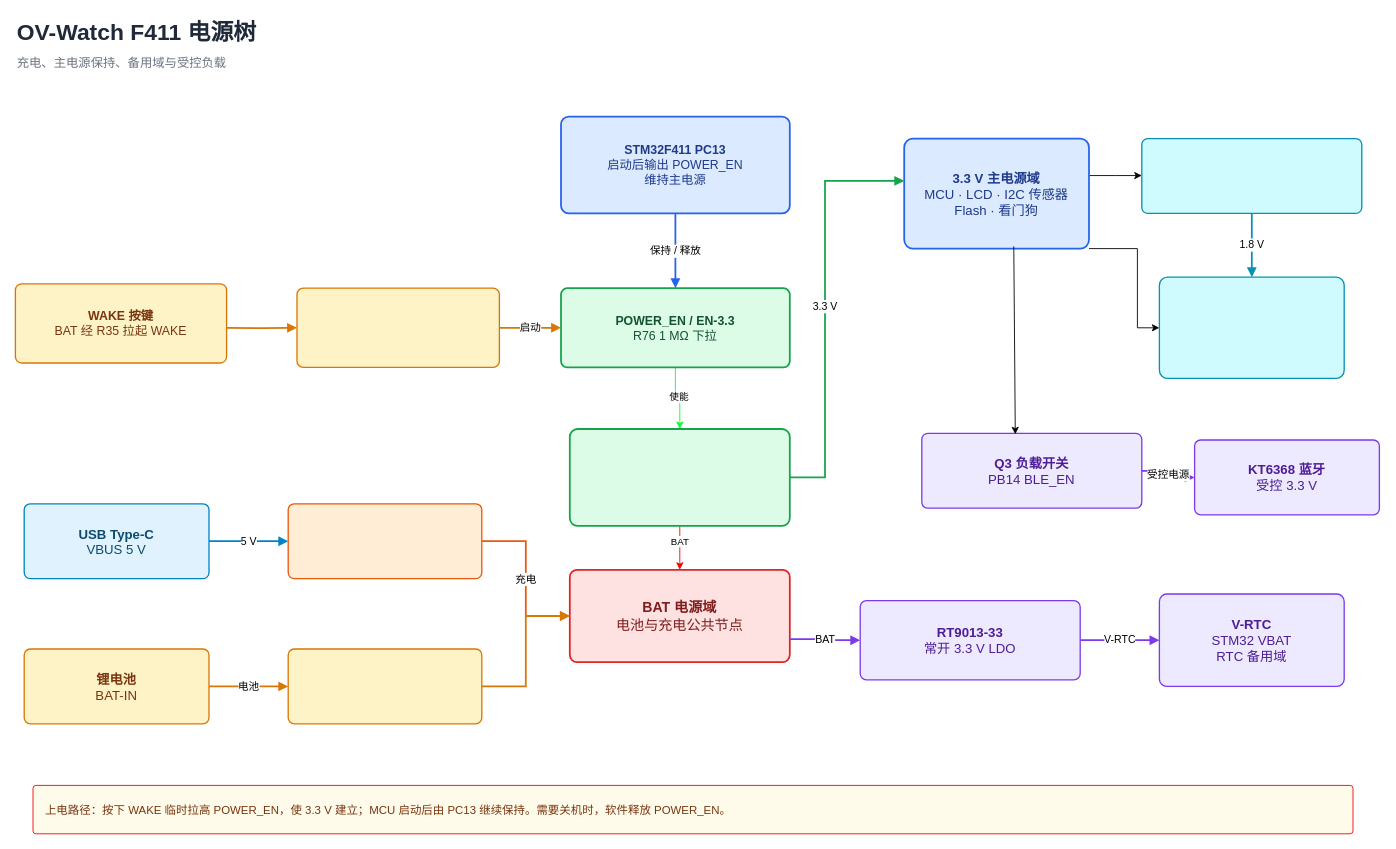
The diagram is 1396 pixels wide and 849 high, and some of its shapes have lost their labels. Each missing label, with the centre of its shape:
IP2332 锂电池充电: (x=384, y=541)
MAX30102 VDD 3.3 V VLED+ 1.8 V: (x=1251, y=327)
Q1 PMOS 防反接: (x=384, y=686)
RT9013-18 1.8 V LDO: (x=1251, y=176)
TPS63021 3.3 V 升降压 EN = POWER_EN: (x=679, y=477)
U30 单向隔离 WAKE → POWER_EN: (x=398, y=327)
